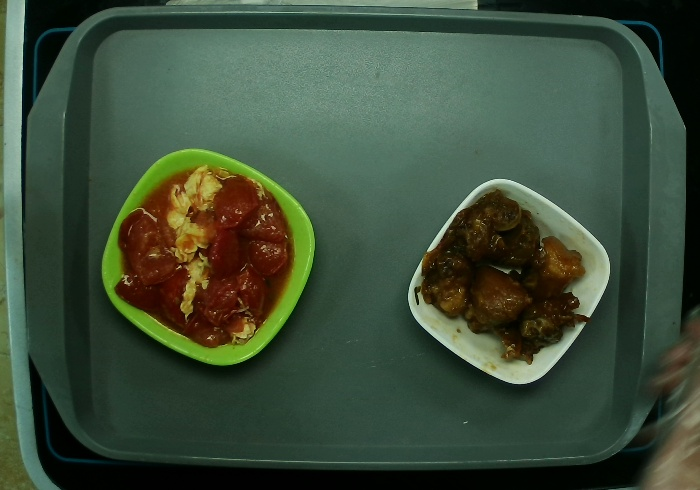SHKJ-Bai_Se_Xiao_Fang_Die: (407, 179, 611, 384)
SHKJ-Lv_Se_Cai_Die: (101, 148, 315, 366)
